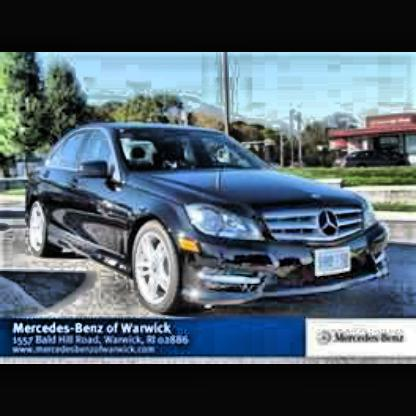Mercedes-Benz C-Class Sedan 2012: (24, 122, 395, 318)
